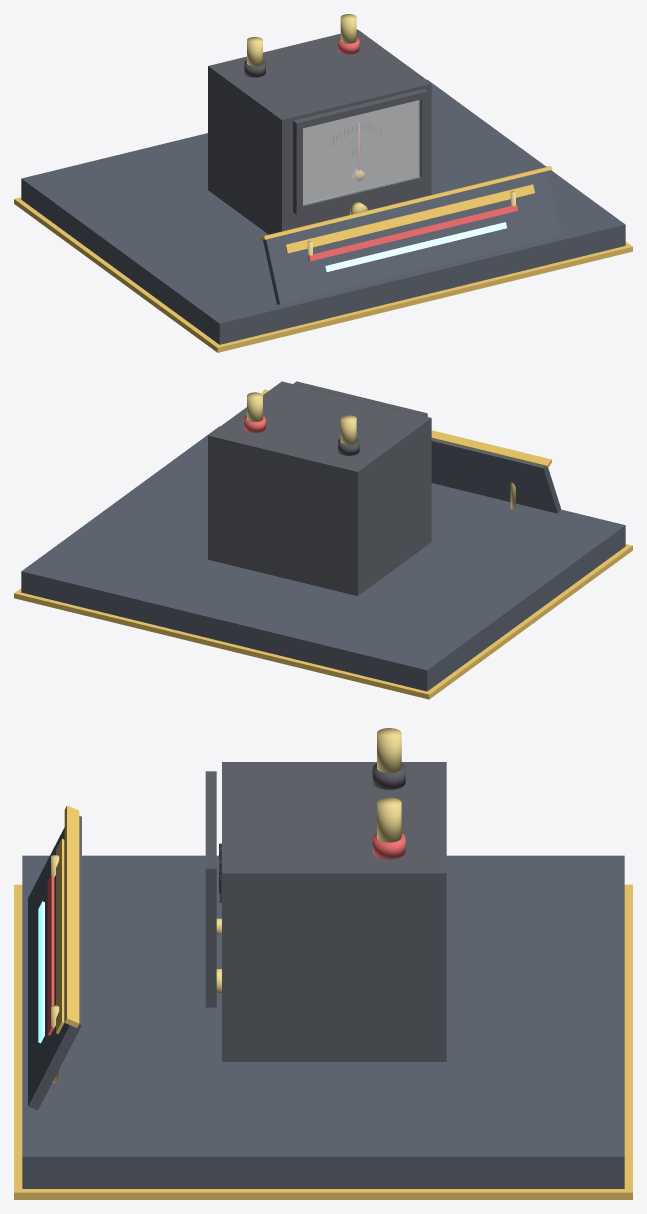
Rendered from galvanometer.glb.
3 renders of one model, top to bottom at view 1: azimuth 30°, elevation 25°; view 2: azimuth 150°, elevation 25°; view 3: azimuth 270°, elevation 25°, orthographic. The views are drawn at different scales.
Parts seen in each view (by area): view 1: galv_full_plinth, galv_full_casing, galv_sec_plaque_face, galv_full_glass, galv_sec_glass, galv_full_plinth_rim, galv_sec_title_bar, galv_sec_sub1, galv_full_frame_top, galv_sec_plaque_trim, galv_full_frame_bot, galv_sec_sub2 (+4 smaller); view 2: galv_full_plinth, galv_full_casing, galv_sec_plaque_face, galv_full_plinth_rim, galv_sec_plaque_trim, galv_full_frame_top, galv_sec_case_back, galv_full_post_neg, galv_full_post_pos, galv_sec_case_base; view 3: galv_full_plinth, galv_full_casing, galv_full_plinth_rim, galv_sec_plaque_face, galv_sec_plaque_trim, galv_sec_case_base, galv_sec_case_back, galv_sec_title_bar, galv_full_frame_r, galv_full_frame_top, galv_sec_sub1, galv_full_post_pos (+2 smaller).
Part boxes in pixels (x1=…): galv_full_plinth: x1=21, y1=79, x2=625, y2=344; galv_full_casing: x1=208, y1=30, x2=431, y2=234; galv_sec_plaque_face: x1=263, y1=171, x2=560, y2=304; galv_full_glass: x1=303, y1=100, x2=419, y2=205; galv_sec_glass: x1=303, y1=100, x2=419, y2=204; galv_full_plinth_rim: x1=14, y1=197, x2=632, y2=352; galv_sec_title_bar: x1=285, y1=184, x2=534, y2=253; galv_sec_sub1: x1=308, y1=204, x2=517, y2=261; galv_full_frame_top: x1=293, y1=89, x2=427, y2=129; galv_sec_plaque_trim: x1=260, y1=166, x2=552, y2=240; galv_full_frame_bot: x1=293, y1=175, x2=427, y2=214; galv_sec_sub2: x1=325, y1=222, x2=506, y2=271; galv_full_plinth: x1=21, y1=426, x2=625, y2=691; galv_full_casing: x1=208, y1=381, x2=431, y2=595; galv_sec_plaque_face: x1=431, y1=439, x2=560, y2=513; galv_full_plinth_rim: x1=14, y1=544, x2=632, y2=699; galv_sec_plaque_trim: x1=261, y1=389, x2=552, y2=467; galv_full_frame_top: x1=293, y1=381, x2=427, y2=416; galv_sec_case_back: x1=222, y1=438, x2=362, y2=532; galv_full_post_neg: x1=340, y1=415, x2=356, y2=444; galv_full_post_pos: x1=247, y1=392, x2=262, y2=421; galv_sec_case_base: x1=208, y1=533, x2=430, y2=595; galv_full_plinth: x1=22, y1=855, x2=624, y2=1188; galv_full_casing: x1=222, y1=762, x2=446, y2=1060; galv_full_plinth_rim: x1=14, y1=884, x2=632, y2=1199; galv_sec_plaque_face: x1=28, y1=816, x2=81, y2=1110; galv_sec_plaque_trim: x1=64, y1=805, x2=79, y2=1027; galv_sec_case_base: x1=222, y1=1047, x2=446, y2=1061; galv_sec_case_back: x1=430, y1=762, x2=446, y2=1061; galv_sec_title_bar: x1=56, y1=838, x2=64, y2=1033; galv_full_frame_r: x1=205, y1=878, x2=216, y2=997; galv_full_frame_top: x1=205, y1=771, x2=216, y2=878; galv_sec_sub1: x1=47, y1=875, x2=54, y2=1035; galv_full_post_pos: x1=377, y1=797, x2=401, y2=842.
Bounding box in the file's own units: 0.266 × 0.112 × 0.226.
